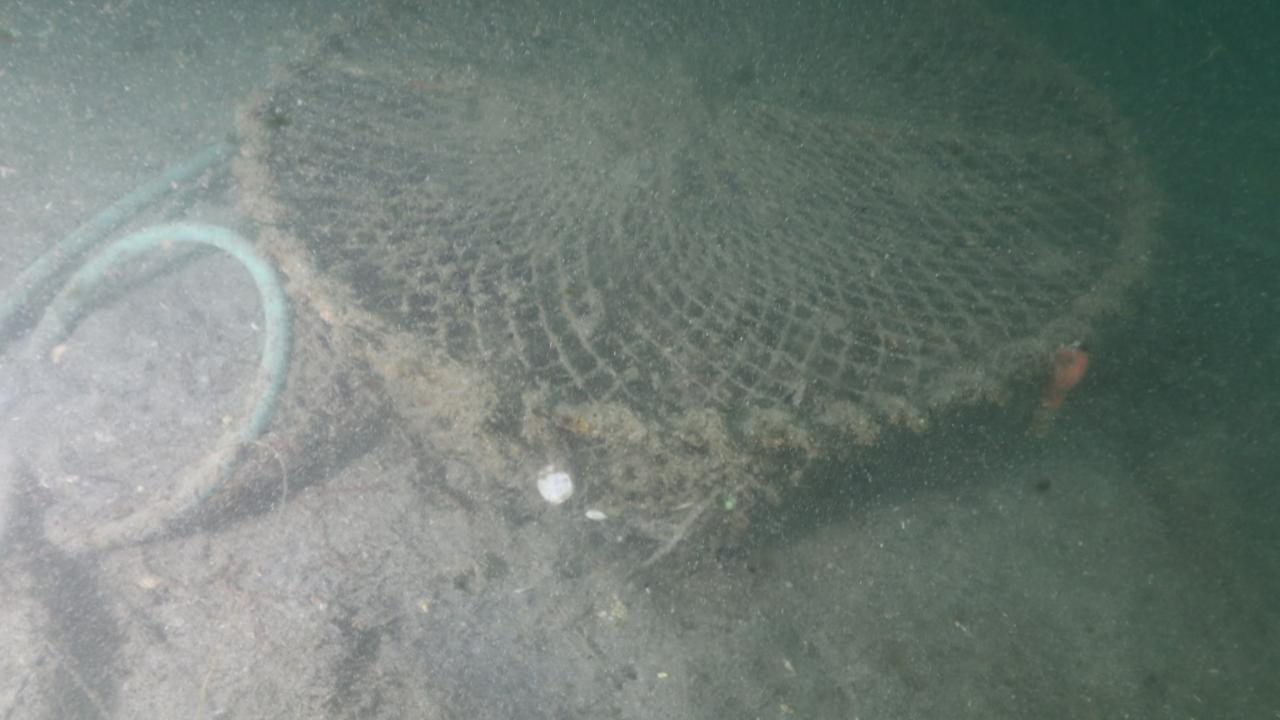circular fish trap: (236, 0, 1158, 534)
